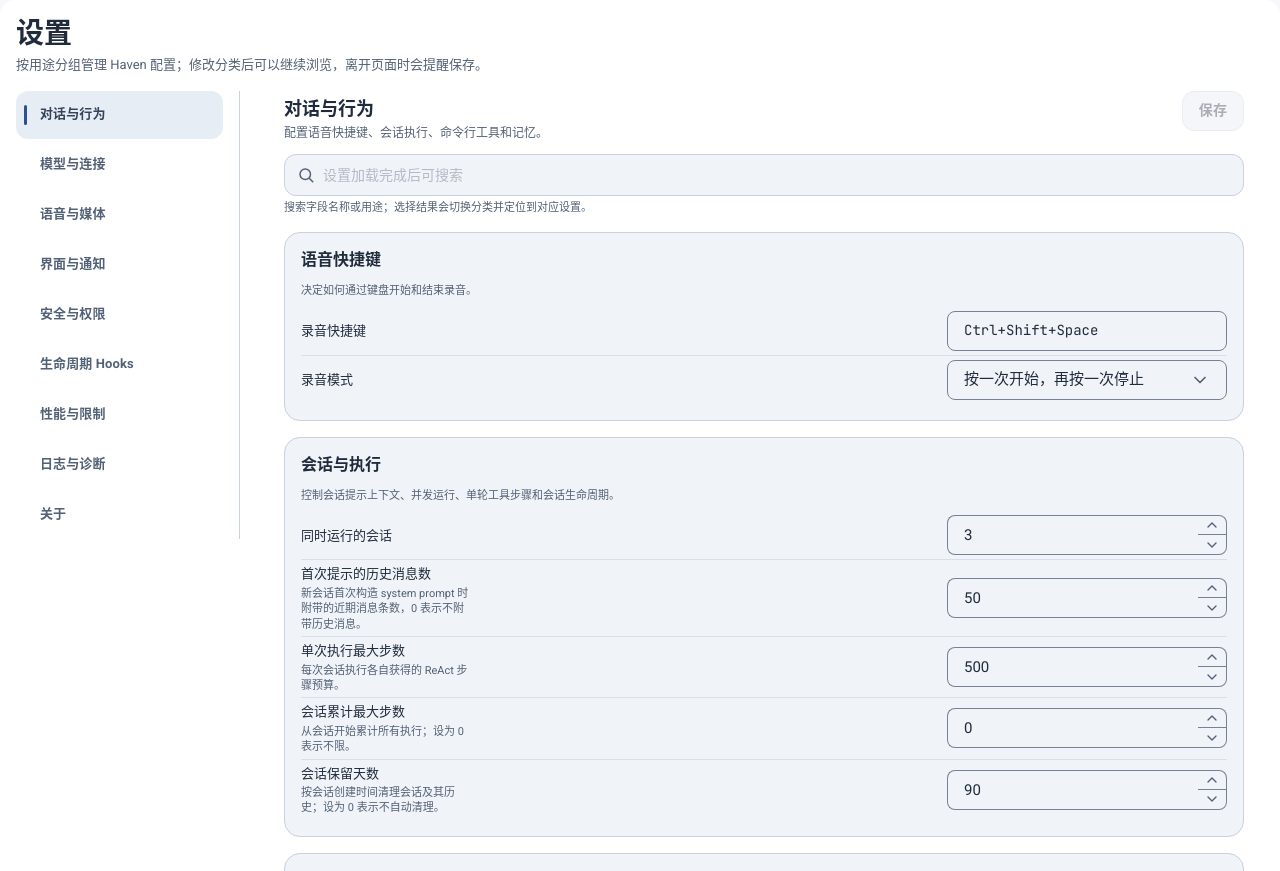
Test: SettingsView › keeps permission management on its own settings tab
Step 1. Click the tab "安全与权限" → {"x": 120, "y": 314}, box [16, 290, 223, 338]
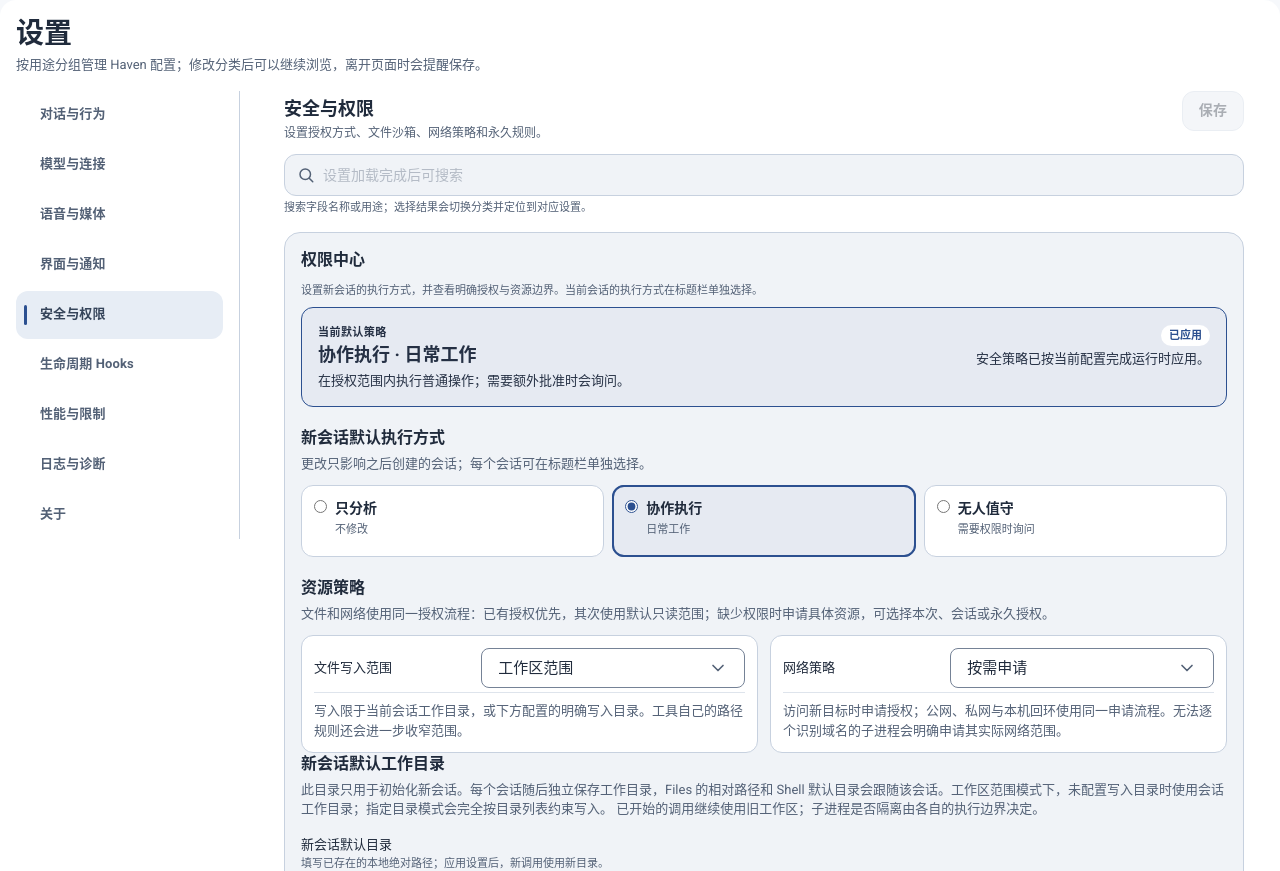
Now the heading "权限中心" is shown, box [301, 250, 365, 269]
